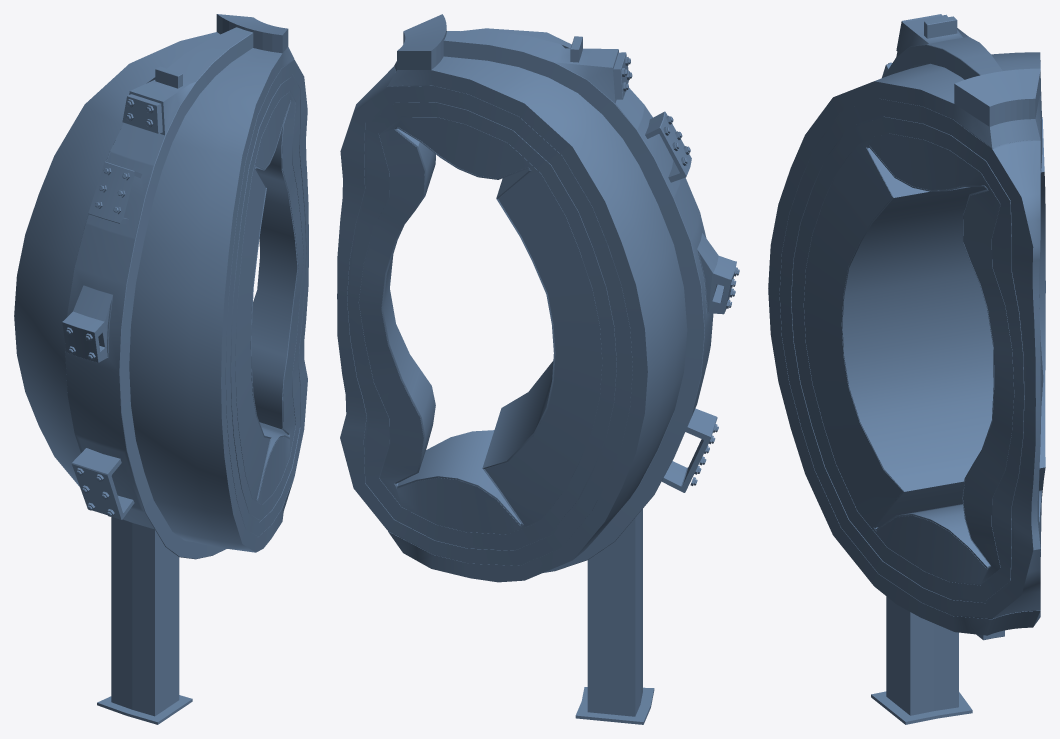
File: SM_ZhuTi.fbx
3 renders of one model, left to right at view 1: azimuth 30°, elevation 25°; view 2: azimuth 150°, elevation 25°; view 3: azimuth 270°, elevation 25°, orthographic. The views are drawn at different scales.
Parts seen in each view (by area): view 1: SM_ZhuTi; view 2: SM_ZhuTi; view 3: SM_ZhuTi.
Part boxes in pixels (<box>): SM_ZhuTi: <box>14,14,308,724</box>; SM_ZhuTi: <box>337,14,739,724</box>; SM_ZhuTi: <box>768,14,1045,724</box>.
Bounding box in the file's own units: 1.45 × 2.8 × 1.
